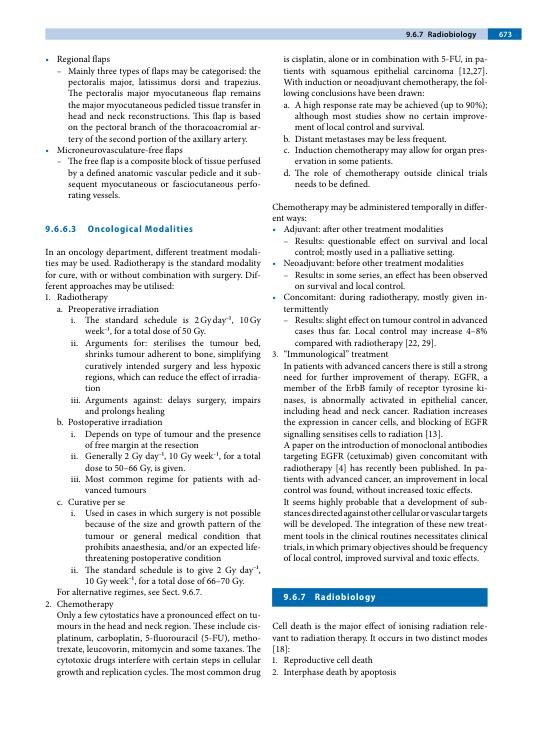header: (427, 30, 477, 40)
list: (44, 292, 262, 679), (271, 224, 489, 565), (44, 53, 262, 203), (282, 53, 488, 189), (271, 655, 397, 679)
section-heading: (314, 592, 377, 603)
sub-section-heading: (87, 224, 194, 235)
text: (44, 246, 261, 292), (271, 620, 488, 654), (271, 201, 489, 223)
